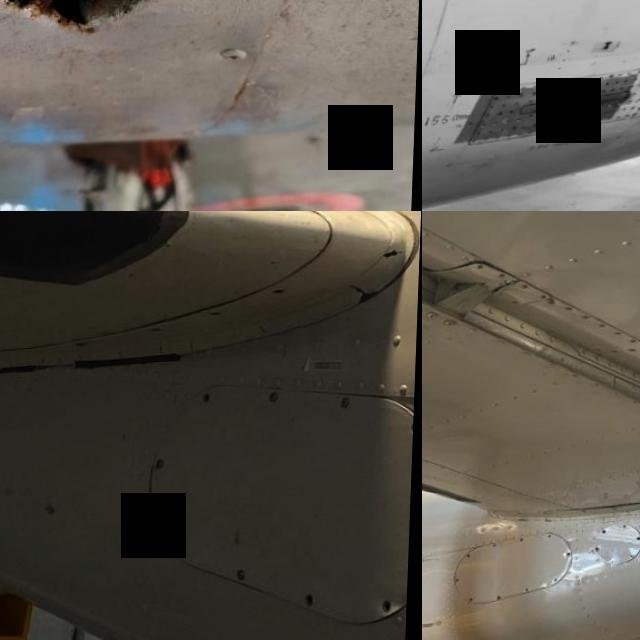Crack: (0, 0, 283, 61)
Missing_Fastener: (175, 541, 188, 555), (306, 597, 318, 612), (204, 394, 214, 409), (386, 606, 397, 617), (274, 293, 286, 299), (526, 591, 535, 596), (413, 428, 415, 443), (471, 600, 478, 604), (604, 534, 610, 538), (598, 551, 604, 555), (550, 538, 556, 542), (468, 556, 474, 560)
